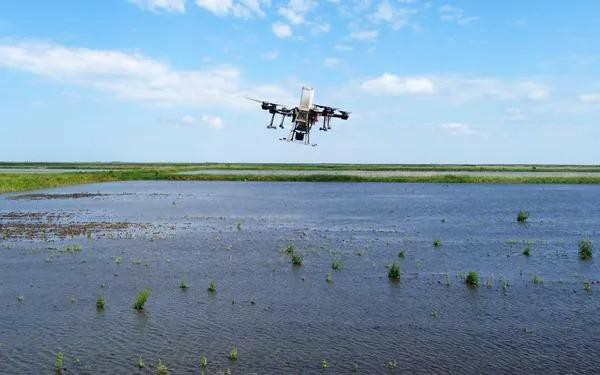maybay_khongnguoilai: (246, 80, 354, 153)
